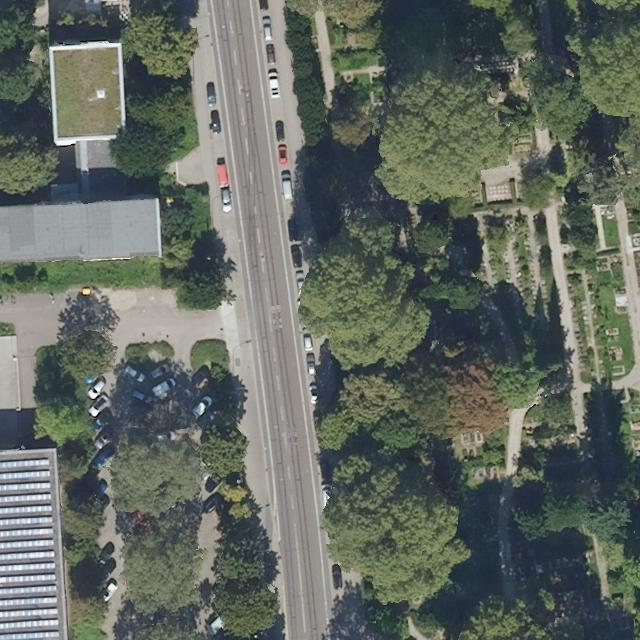PV: (0, 455, 62, 639)
